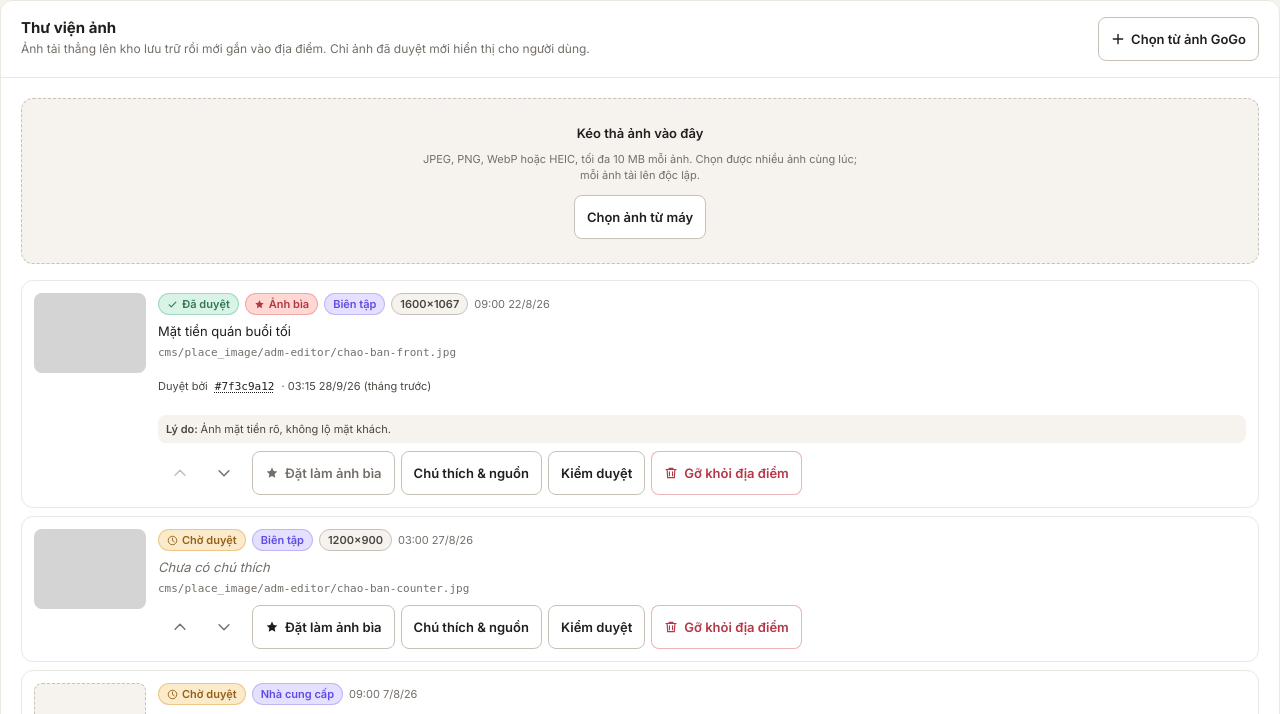
Test: place media — editorial decisions (CMS-046) › confirms a detach as a detach, never as a delete
Click the button "Gỡ khỏi địa điểm" below "03:00 27/8/26": (727, 627) [651,605,802,649]
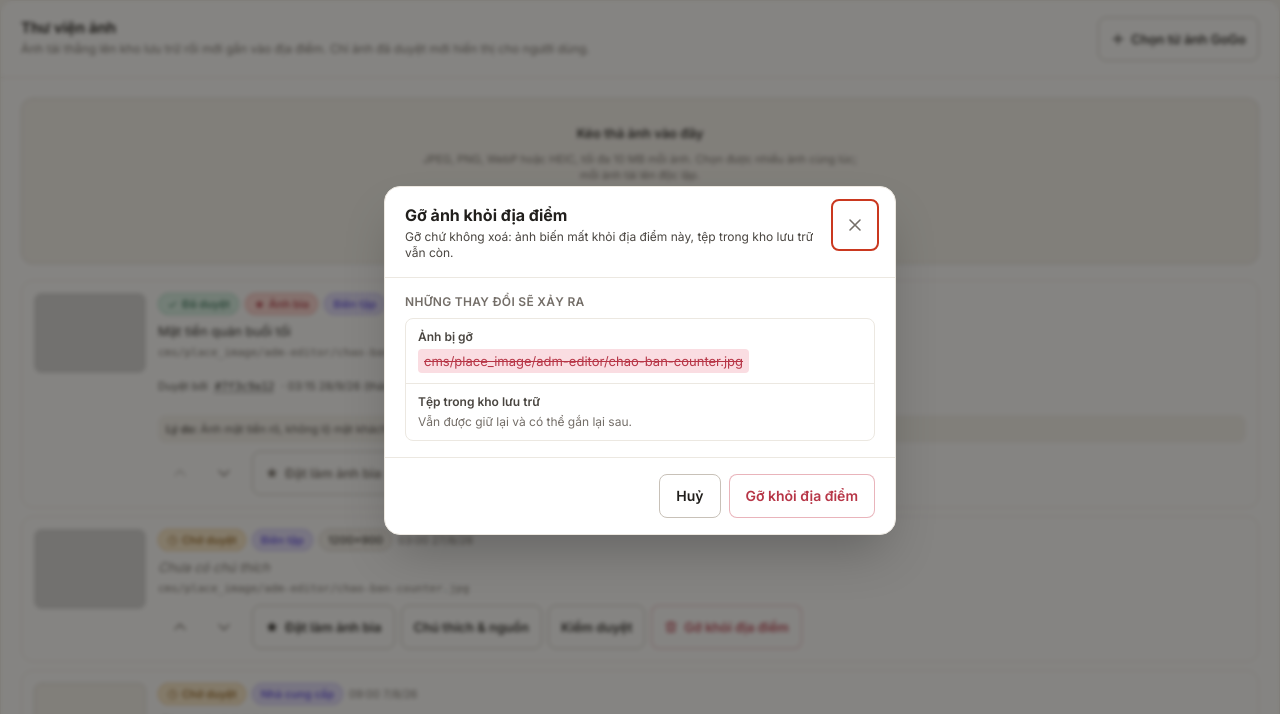
expect the heading "Gỡ ảnh khỏi địa điểm" is shown: met, box [405,204,567,224]
expect the text "Gỡ chứ không xoá" is shown: met, box [405,228,813,260]
expect the text "Vẫn được giữ lại và có thể gắn lại sau." is shown: met, box [418,414,632,428]
Click the button "Gỡ khỏi địa điểm": (802, 496) [728,474,875,518]
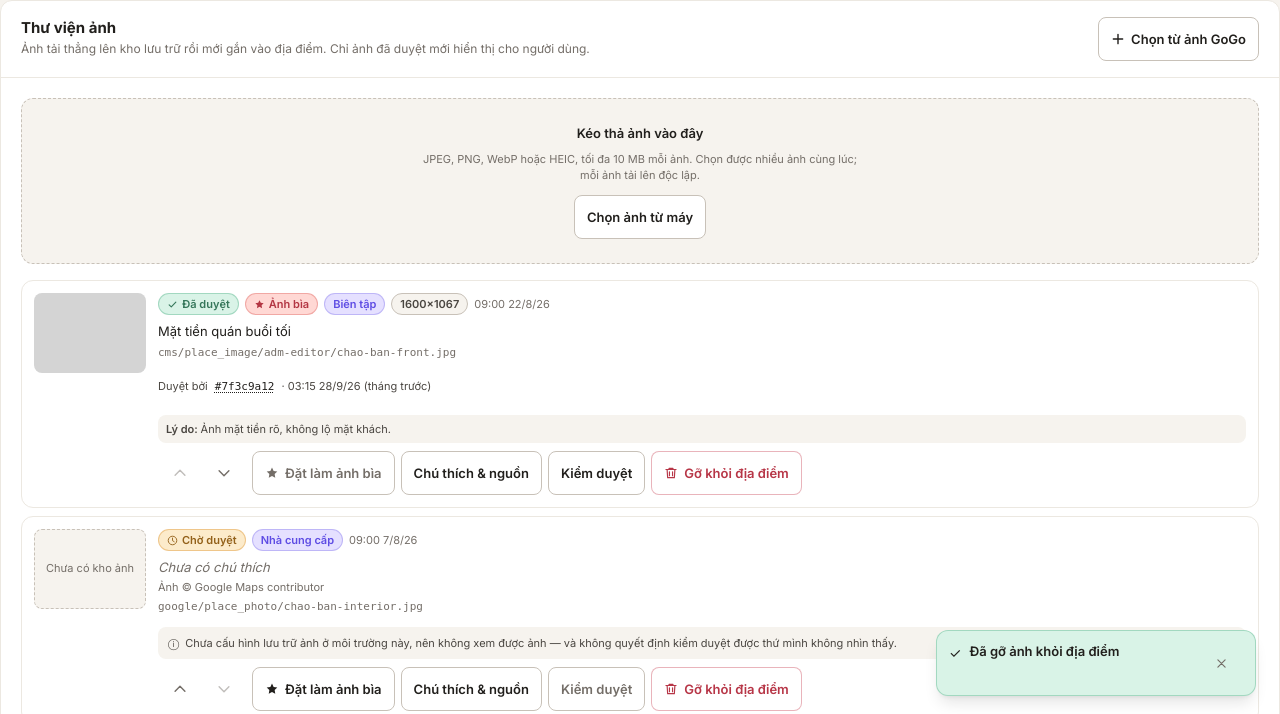
expect the text titled "cms/place_image/adm-editor/chao-ban-front.jpg" is shown: met, box [158,346,456,359]
expect the text titled "cms/place_image/adm-editor/chao-ban-counter.jpg" is gone: met
